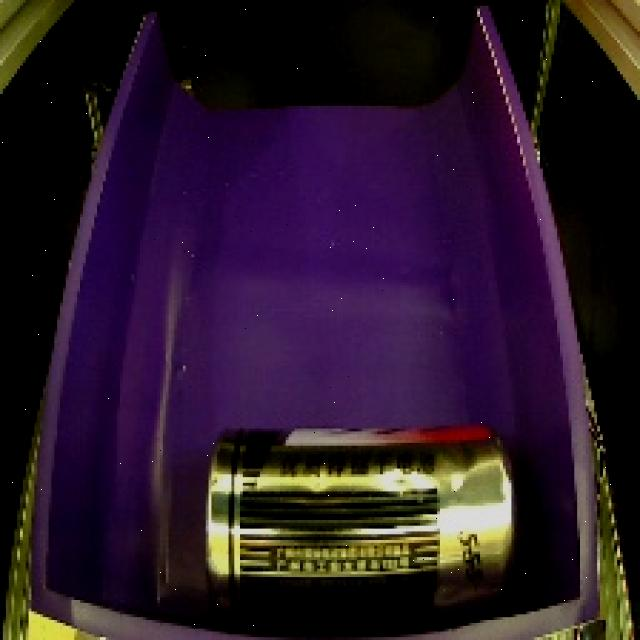battery: (180, 406, 532, 632)
